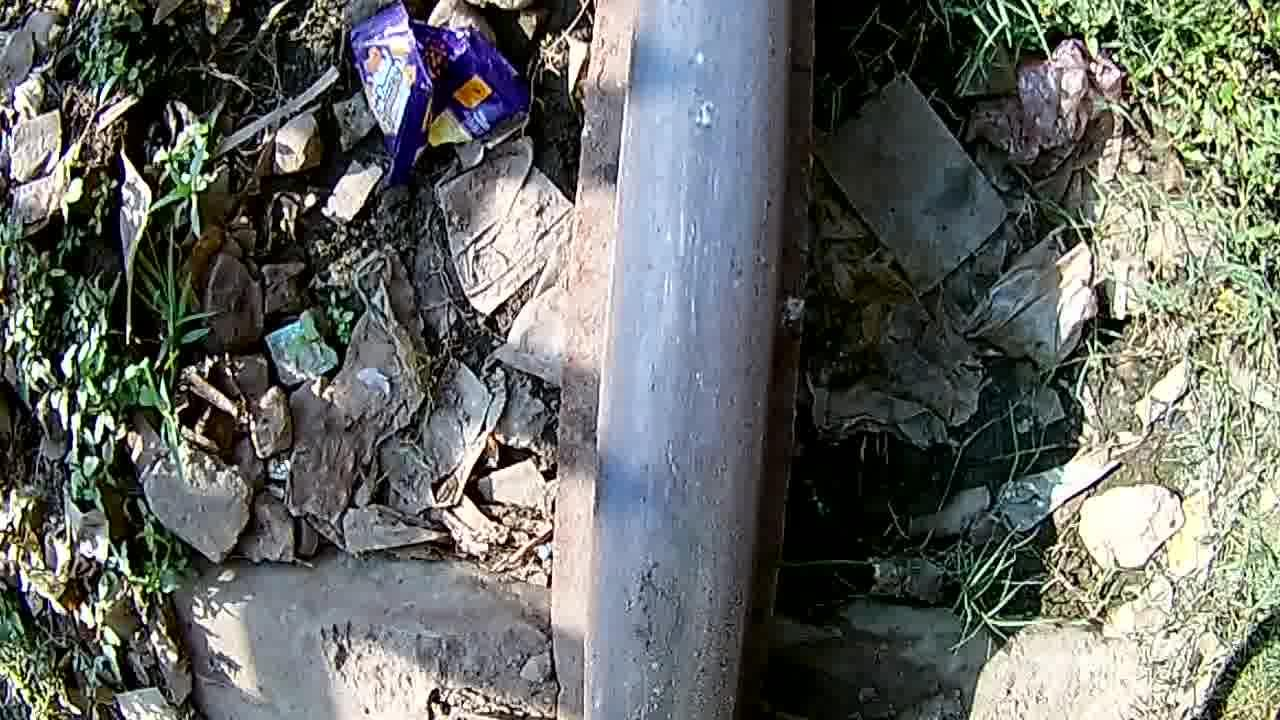bolt_missing: (606, 0, 791, 720)
